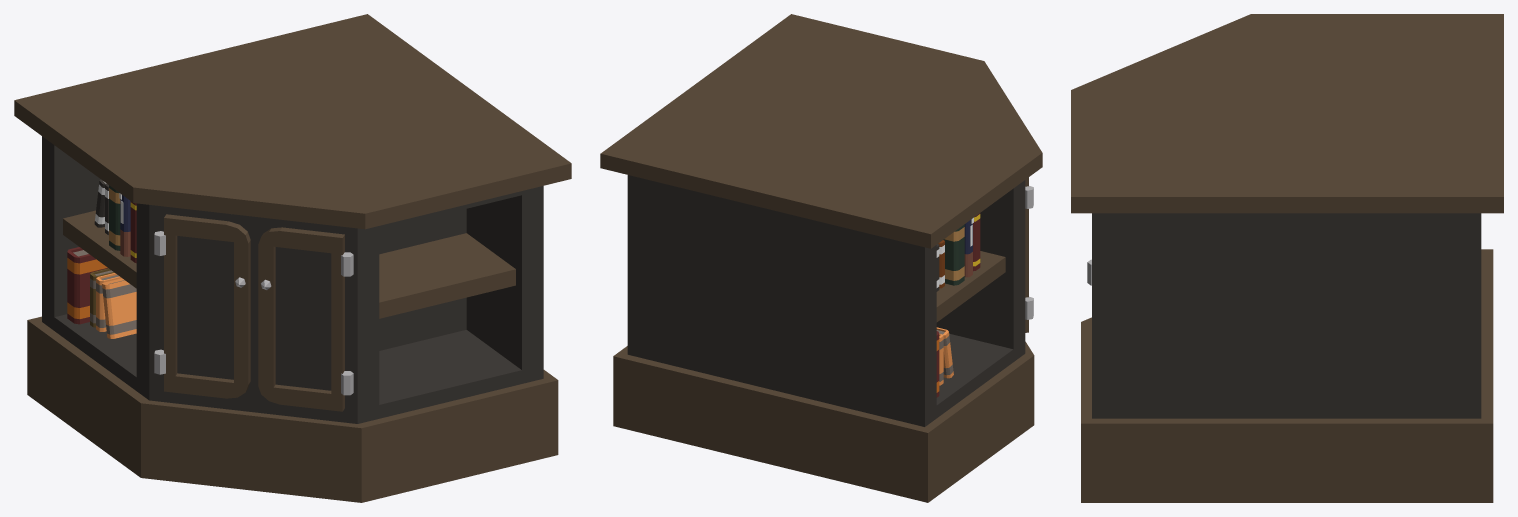
File: SM_Bookcase_02.glb
The picture shows the model from 3 angles, left to right: view 1: azimuth 30°, elevation 25°; view 2: azimuth 150°, elevation 25°; view 3: azimuth 270°, elevation 25°; orthographic projection. The views are drawn at different scales.
Visible parts, largest first — view 1: SM_Bookcase_02; view 2: SM_Bookcase_02; view 3: SM_Bookcase_02.
Boxes of the visible parts, box(x1,y1,x2,y2) form: SM_Bookcase_02: box(14, 14, 571, 502); SM_Bookcase_02: box(600, 14, 1042, 502); SM_Bookcase_02: box(1071, 14, 1503, 502).
Size of the model in its own units: 1.02 by 0.8072 by 1.02.
1 material, 1 textured.
